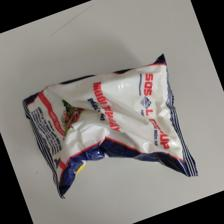Salt: (18, 48, 199, 201)
